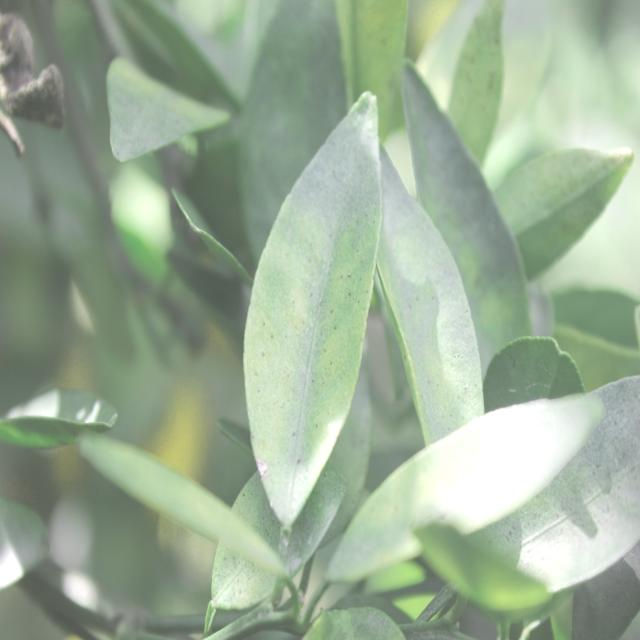blackspot: (220, 102, 384, 504), (495, 384, 639, 586), (391, 263, 479, 436)
